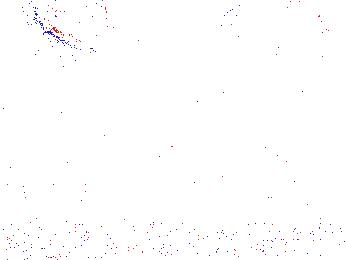moon jellyfish: (265, 1, 329, 65), (34, 1, 108, 52), (55, 24, 136, 65), (108, 1, 179, 43), (213, 3, 284, 40)
